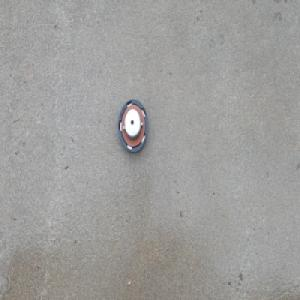FuelCap: (117, 99, 148, 155)
